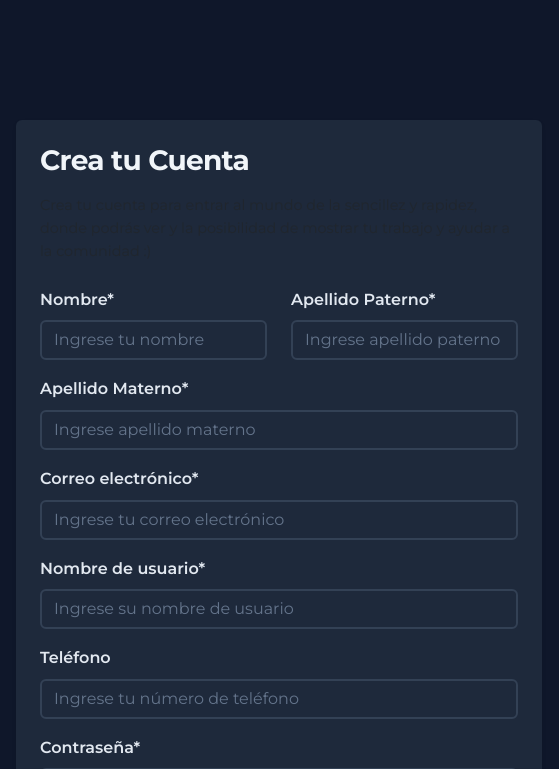
Scenario: Registro Component › Validaciones de formato › debe validar el formato del correo electrónico
In the field labelled "Correo electrónico*": (279,520) [40,500,518,540], type "correo-invalido"
(page scrolled)
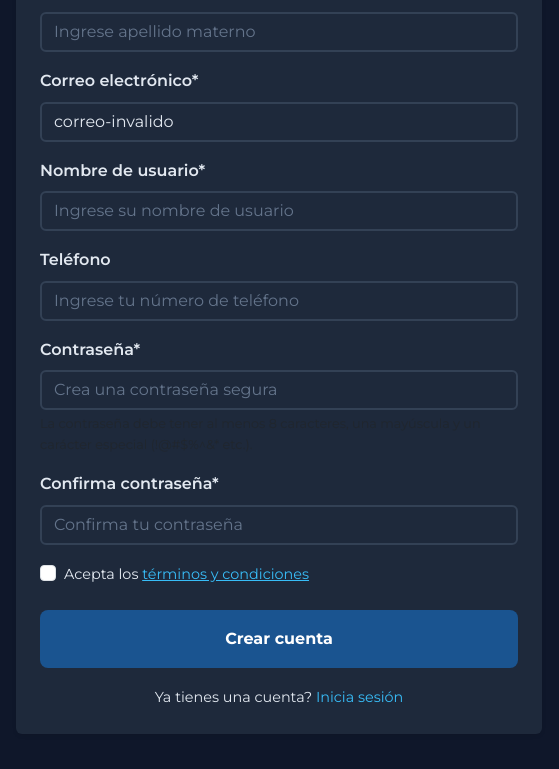
Click the button "Crear cuenta": (279,639) [40,610,518,668]
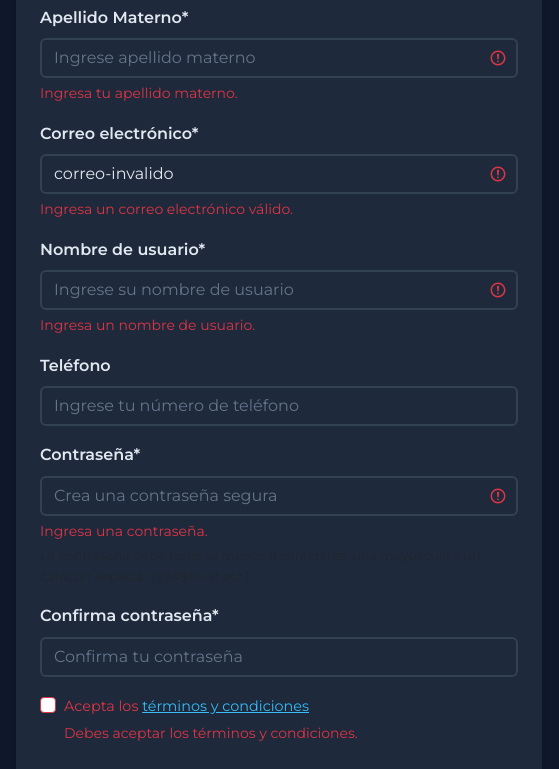
Expected: the text "Ingresa un correo electrónico válido." is shown, [40,200,293,218]
